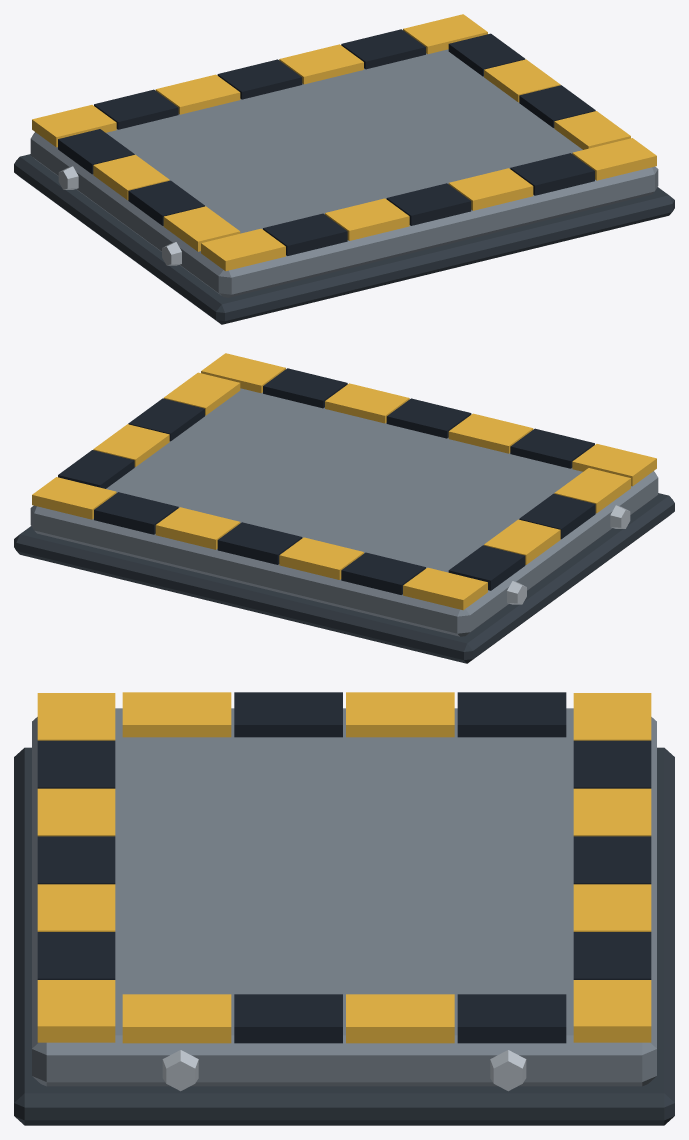
The model's file is Station_AnvilPlate.fbx.
3 views of the same model, one above another, from view 1: azimuth 30°, elevation 25°; view 2: azimuth 150°, elevation 25°; view 3: azimuth 270°, elevation 25° (orthographic). The views are drawn at different scales.
Parts seen in each view (by area): view 1: Steel, Amber, Slate, FrameDark, SteelLight; view 2: Steel, Amber, Slate, FrameDark, SteelLight; view 3: Steel, Amber, Slate, FrameDark, SteelLight.
Part boxes in pixels (box(x1,y1,x2,y2)): Steel: box(30, 49, 658, 297); Amber: box(32, 14, 656, 271); Slate: box(58, 29, 595, 255); FrameDark: box(14, 154, 674, 324); SteelLight: box(58, 166, 181, 265); Steel: box(30, 388, 658, 636); Amber: box(32, 353, 656, 610); Slate: box(58, 368, 595, 594); FrameDark: box(14, 493, 674, 663); SteelLight: box(507, 505, 630, 604); Steel: box(32, 708, 656, 1086); Amber: box(37, 692, 651, 1043); Slate: box(37, 692, 651, 1043); FrameDark: box(14, 747, 674, 1125); SteelLight: box(162, 1050, 526, 1091).
Size of the model in its own units: 2.82 by 0.345 by 2.22.
